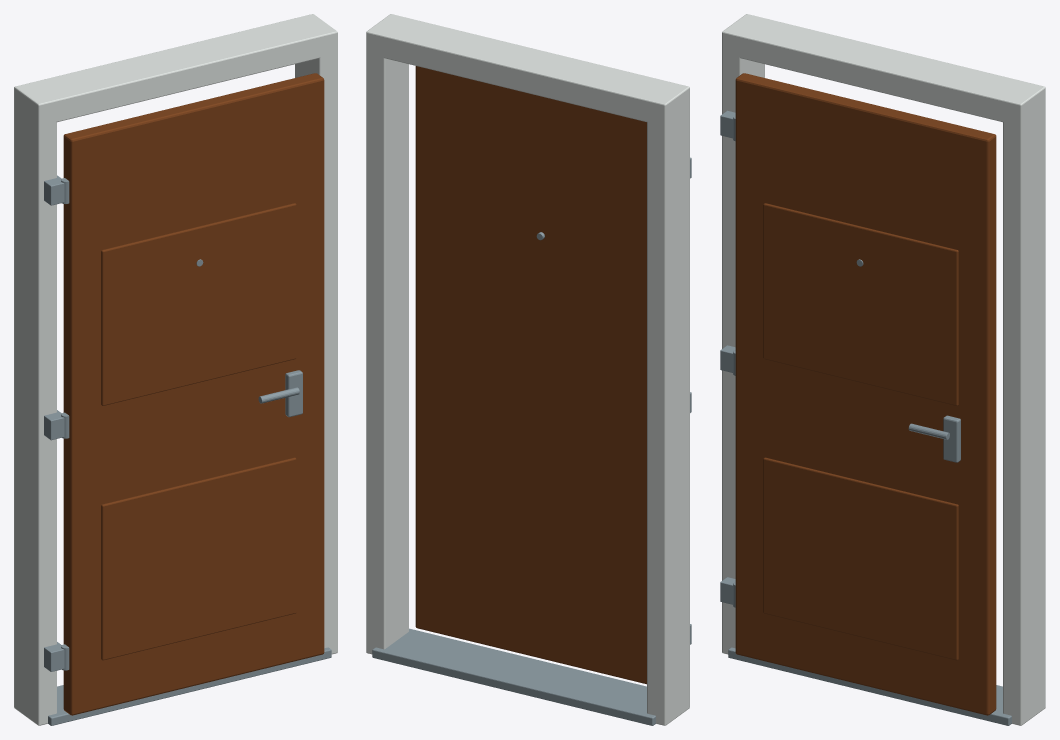
3 views of the same model, side by side, from view 1: azimuth 30°, elevation 25°; view 2: azimuth 150°, elevation 25°; view 3: azimuth 330°, elevation 25° (orthographic).
Parts seen in each view (by area): view 1: DOOR_Leaf, DOOR_Inset, DOOR_Inset.001, FRAME_Jamb, FRAME_Header, FRAME_Jamb.001, THRESHOLD, HANDLE_Plate, HINGE_Mount.002, HINGE_Mount.001; view 2: DOOR_Leaf, FRAME_Jamb, FRAME_Jamb.001, FRAME_Header, THRESHOLD; view 3: DOOR_Leaf, DOOR_Inset, DOOR_Inset.001, FRAME_Jamb.001, FRAME_Header, FRAME_Jamb, THRESHOLD, HANDLE_Plate.
Part boxes in pixels (x1,y1,x2,y2): DOOR_Leaf: (63,73,324,715); DOOR_Inset: (101,457,296,660); DOOR_Inset.001: (101,203,296,405); FRAME_Jamb: (14,87,56,725); FRAME_Header: (14,14,337,125); FRAME_Jamb.001: (295,14,337,654); THRESHOLD: (48,647,331,725); HANDLE_Plate: (285,370,302,417); HINGE_Mount.002: (44,175,64,205); HINGE_Mount.001: (44,410,64,440); DOOR_Leaf: (415,66,646,684); FRAME_Jamb: (647,87,689,725); FRAME_Jamb.001: (366,14,408,654); FRAME_Header: (366,14,689,125); THRESHOLD: (372,628,655,725); DOOR_Leaf: (735,73,996,715); DOOR_Inset: (763,457,958,660); DOOR_Inset.001: (763,203,958,405); FRAME_Jamb.001: (1003,87,1045,725); FRAME_Header: (722,14,1045,125); FRAME_Jamb: (722,14,764,654); THRESHOLD: (728,647,1011,725); HANDLE_Plate: (943,415,960,462).
Size of the model in its own units: 1.11 by 2.2 by 0.297.
